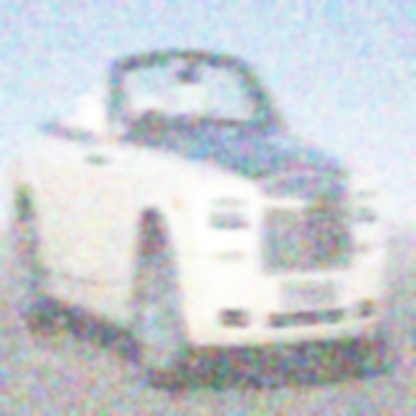Vehicle: (9, 50, 388, 395)
